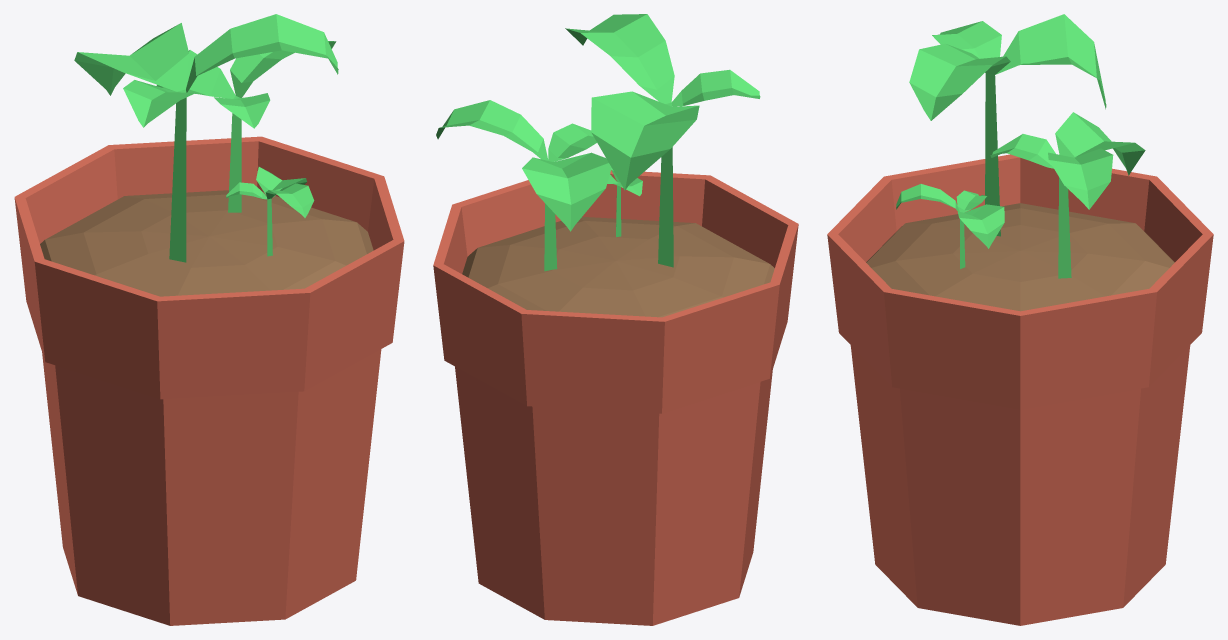
The model's file is Plant.fbx.
The picture shows the model from 3 angles, left to right: view 1: azimuth 30°, elevation 25°; view 2: azimuth 150°, elevation 25°; view 3: azimuth 270°, elevation 25°; orthographic projection. The views are drawn at different scales.
Parts seen in each view (by area): view 1: Flower Pot, Dirt, Cylinder.001, Cylinder.000, Cylinder.002; view 2: Flower Pot, Dirt, Cylinder.001, Cylinder.000, Cylinder.002; view 3: Flower Pot, Dirt, Cylinder.001, Cylinder.000, Cylinder.002.
Boxes of the visible parts, x1,y1,x2,y2 form: Flower Pot: [14, 136, 404, 625]; Dirt: [40, 190, 373, 296]; Cylinder.001: [74, 14, 338, 262]; Cylinder.000: [156, 41, 336, 212]; Cylinder.002: [226, 167, 314, 256]; Flower Pot: [433, 170, 798, 625]; Dirt: [462, 216, 774, 317]; Cylinder.001: [565, 14, 760, 267]; Cylinder.000: [436, 100, 611, 271]; Cylinder.002: [607, 168, 642, 236]; Flower Pot: [827, 154, 1213, 625]; Dirt: [866, 203, 1174, 311]; Cylinder.001: [909, 14, 1106, 236]; Cylinder.000: [990, 112, 1145, 278]; Cylinder.002: [896, 184, 1004, 268].
Bounding box in the file's own units: 212 × 317 × 212.
